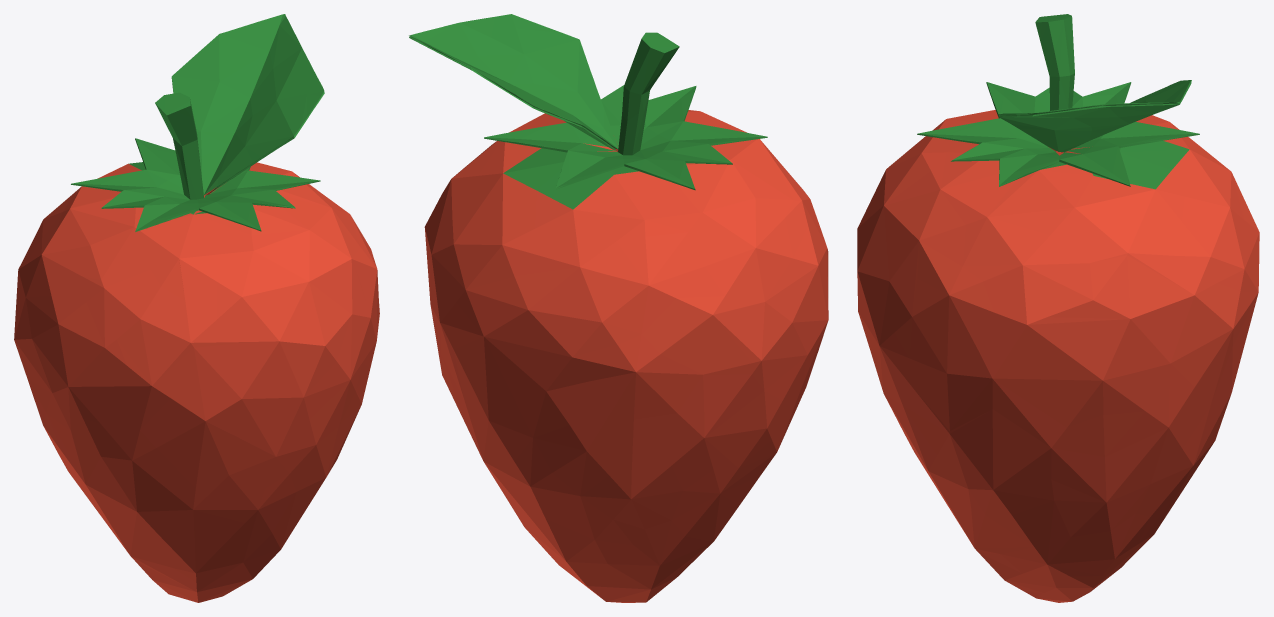
Rendered from Fresa.fbx.
3 views of the same model, side by side, from view 1: azimuth 30°, elevation 25°; view 2: azimuth 150°, elevation 25°; view 3: azimuth 270°, elevation 25° (orthographic). The views are drawn at different scales.
Parts seen in each view (by area): view 1: fresa; view 2: fresa; view 3: fresa.
Boxes of the visible parts, x1,y1,x2,y2 form: fresa: [14, 14, 379, 602]; fresa: [409, 14, 828, 602]; fresa: [857, 14, 1259, 602].
Size of the model in its own units: 9699 by 15074 by 9535.
